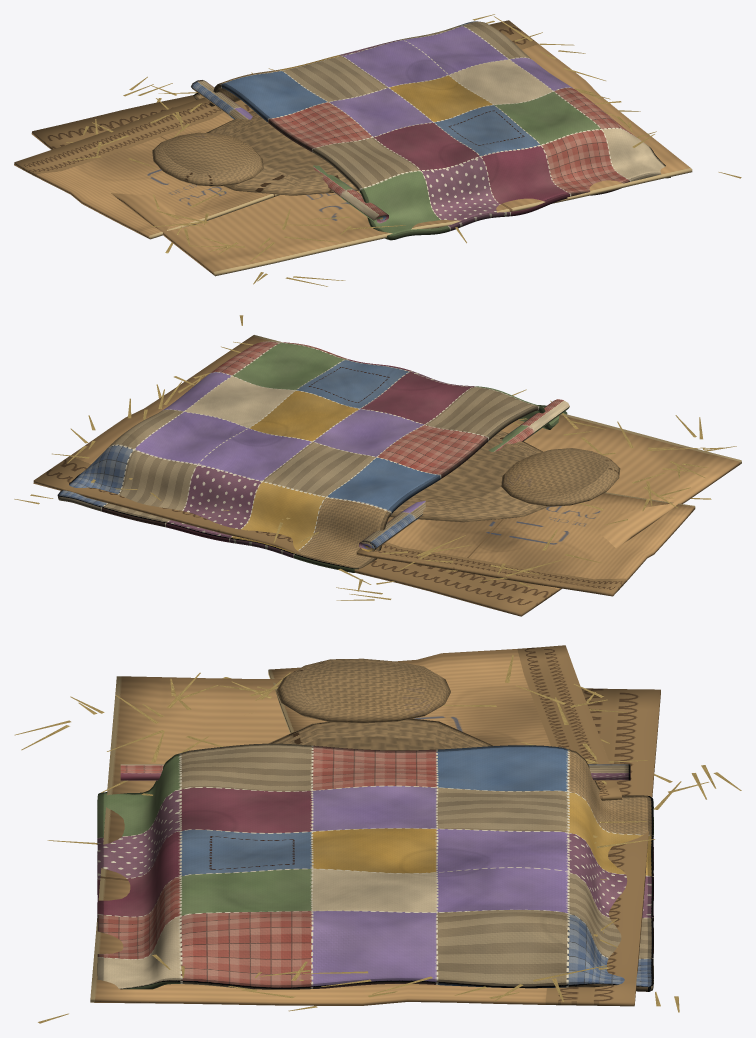
File: cama_tico.gltf
3 views of the same model, one above another, from view 1: azimuth 30°, elevation 25°; view 2: azimuth 150°, elevation 25°; view 3: azimuth 270°, elevation 25° (orthographic). The views are drawn at different scales.
Visible parts, largest first — view 1: Colcha, Papelao, PapelaoCabeceira, Colchao, Travesseiro, Palha, DobraColcha; view 2: Colcha, Papelao, PapelaoCabeceira, Colchao, Travesseiro, Palha, DobraColcha; view 3: Colcha, Papelao, PapelaoCabeceira, Travesseiro, Palha, Colchao, DobraColcha.
Part boxes in pixels (left/top/right/bottom): Colcha: left=193, top=21, right=670, bottom=240; Papelao: left=31, top=20, right=692, bottom=276; PapelaoCabeceira: left=14, top=97, right=280, bottom=239; Colchao: left=206, top=110, right=357, bottom=195; Travesseiro: left=152, top=132, right=263, bottom=186; Palha: left=62, top=14, right=741, bottom=286; DobraColcha: left=191, top=80, right=388, bottom=223; Colcha: left=57, top=341, right=567, bottom=572; Papelao: left=33, top=335, right=741, bottom=616; PapelaoCabeceira: left=356, top=492, right=695, bottom=596; Colchao: left=390, top=431, right=547, bottom=522; Travesseiro: left=501, top=448, right=620, bottom=506; Palha: left=14, top=315, right=736, bottom=600; DobraColcha: left=359, top=399, right=569, bottom=551; Colcha: left=97, top=743, right=653, bottom=991; Papelao: left=90, top=676, right=660, bottom=1006; PapelaoCabeceira: left=268, top=645, right=622, bottom=800; Travesseiro: left=276, top=658, right=450, bottom=723; Palha: left=14, top=655, right=741, bottom=1023; Colchao: left=268, top=718, right=492, bottom=750; DobraColcha: left=120, top=764, right=630, bottom=780.
Bounding box in the file's own units: 1.5 × 0.1277 × 1.26.
Materials: 4 (4 with a texture image).
